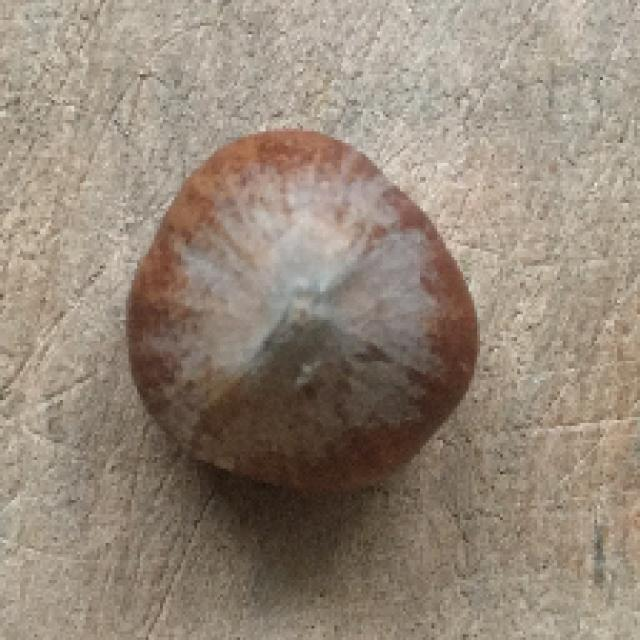qualityHazelnut: (110, 115, 493, 529)
